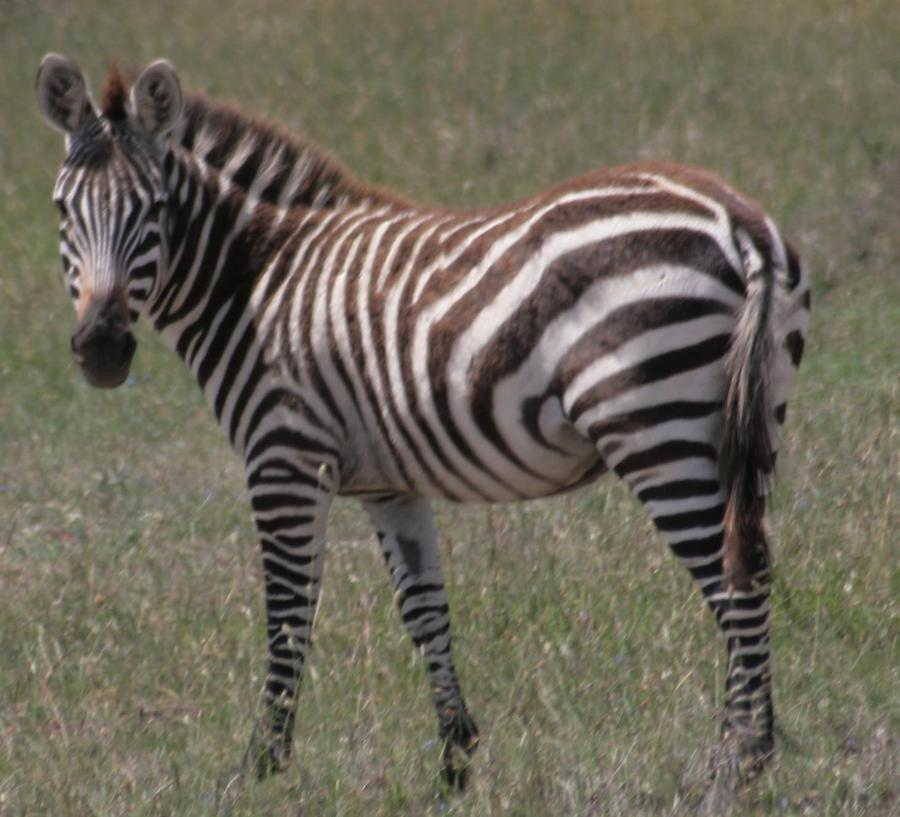zebra_plains: (186, 153, 748, 522)
